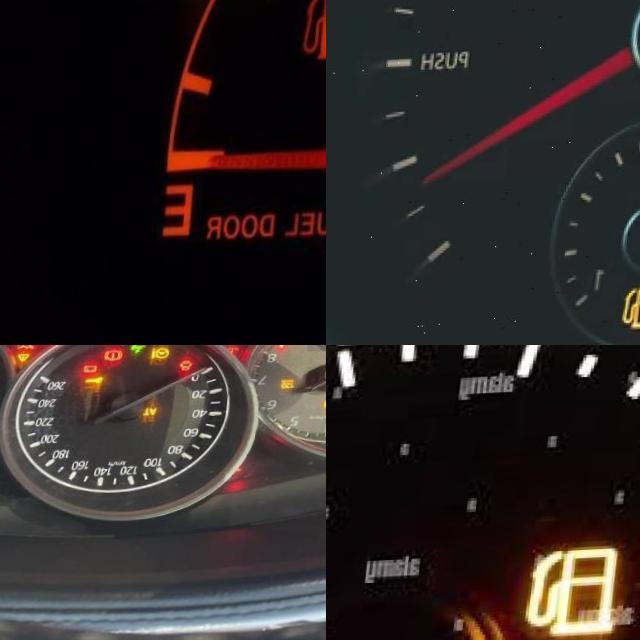Electronic Power Steering: (159, 351, 178, 365)
Seat Belt: (284, 345, 294, 354)
